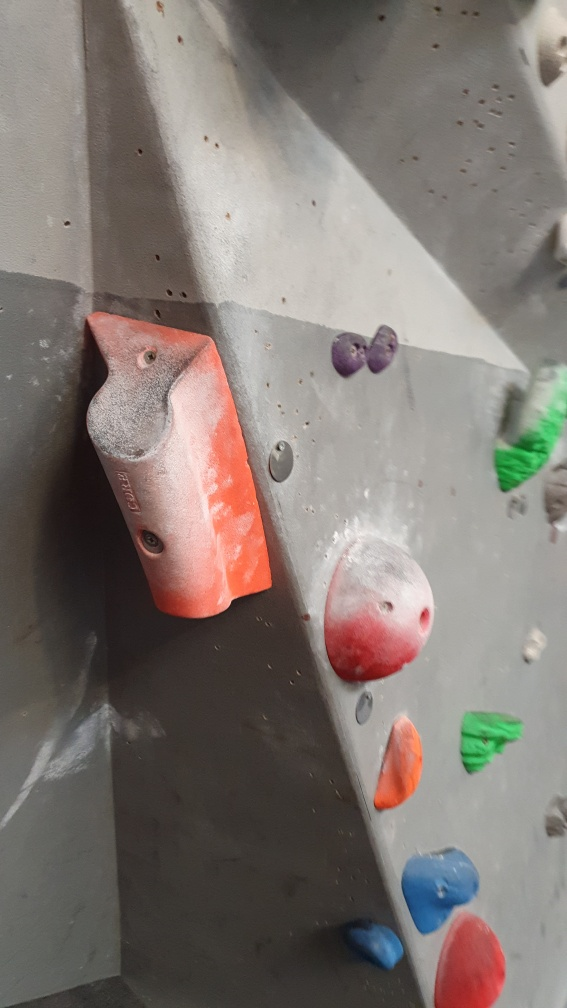Hand Start: (264, 432, 297, 493), (348, 688, 377, 731)
Jug: (495, 348, 566, 513), (457, 709, 531, 781)
Pinch: (86, 309, 272, 620)
Sloper: (320, 532, 439, 686), (423, 912, 511, 1008)
